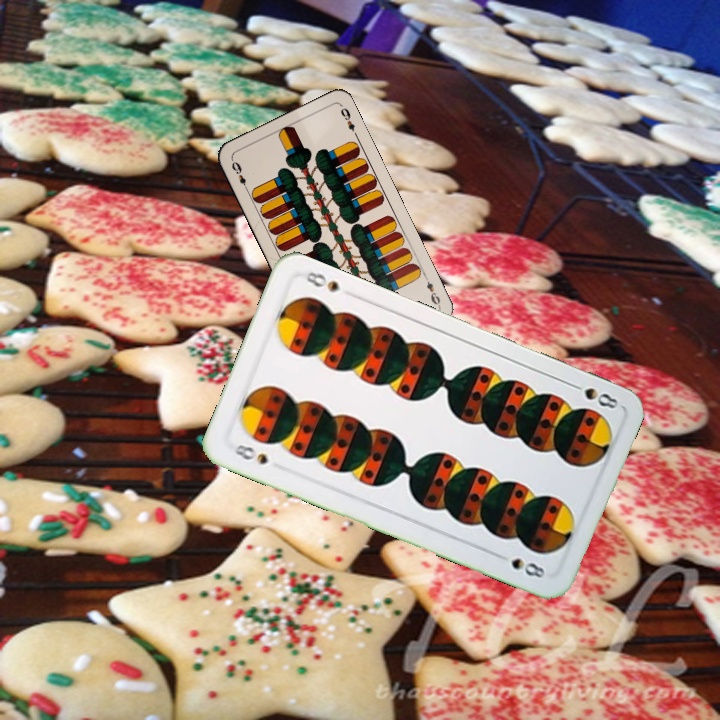E9: (420, 271, 443, 310), (227, 157, 251, 194)
S8: (565, 378, 621, 412), (229, 440, 271, 467)
